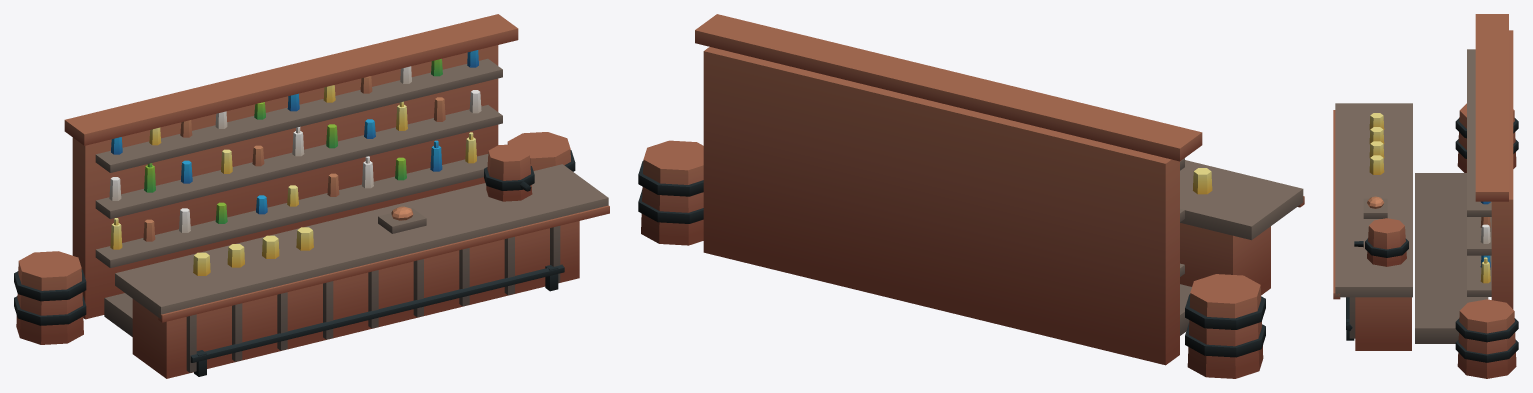
File: tavern_bar.glb
3 renders of one model, left to right at view 1: azimuth 30°, elevation 25°; view 2: azimuth 150°, elevation 25°; view 3: azimuth 270°, elevation 25°, orthographic. The views are drawn at different scales.
Parts seen in each view (by area): view 1: tavern_bar; view 2: tavern_bar; view 3: tavern_bar.
Part boxes in pixels (x1=…): tavern_bar: x1=14, y1=14, x2=609, y2=378; tavern_bar: x1=638, y1=14, x2=1304, y2=378; tavern_bar: x1=1333, y1=14, x2=1518, y2=378.
Size of the model in its own units: 8.04 by 2.71 by 2.77.
Materials: 1 (1 with a texture image).
